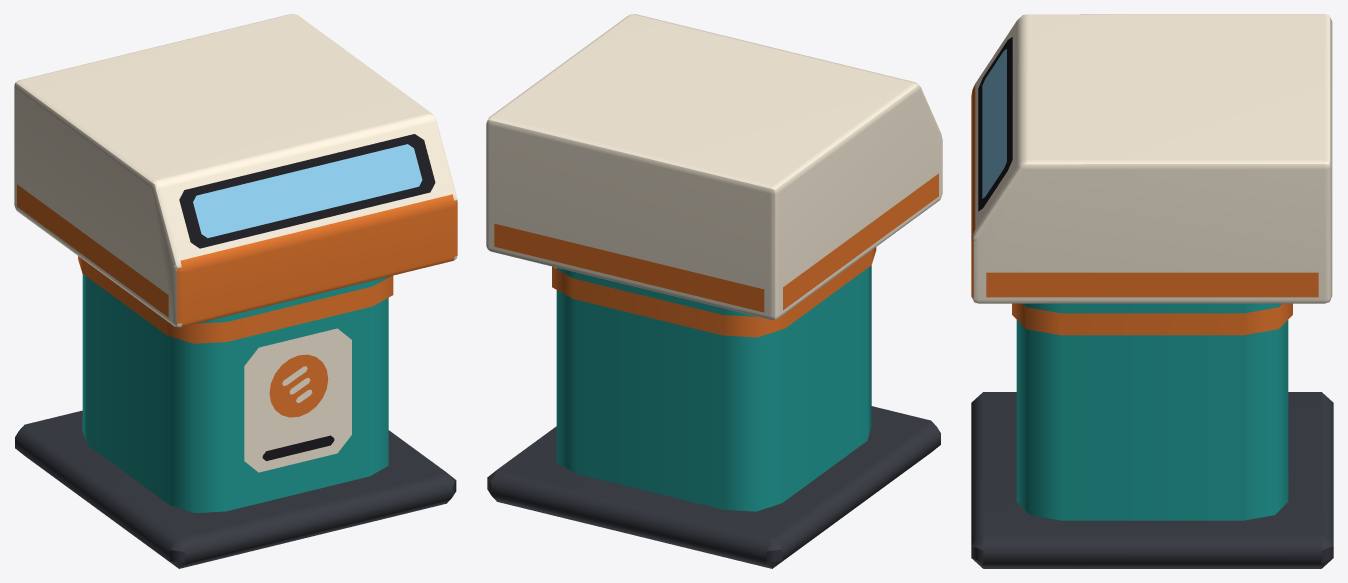
Rendered from Kiosko.fbx.
3 renders of one model, left to right at view 1: azimuth 30°, elevation 25°; view 2: azimuth 150°, elevation 25°; view 3: azimuth 270°, elevation 25°, orthographic. The views are drawn at different scales.
Visible parts, largest first — view 1: Kiosko; view 2: Kiosko; view 3: Kiosko.
Boxes of the visible parts, x1=… form: Kiosko: x1=14, y1=14, x2=457, y2=568; Kiosko: x1=486, y1=14, x2=942, y2=568; Kiosko: x1=971, y1=14, x2=1333, y2=568.
Bounding box in the file's own units: 2.4 × 3 × 2.4.
1 material, 1 textured.
